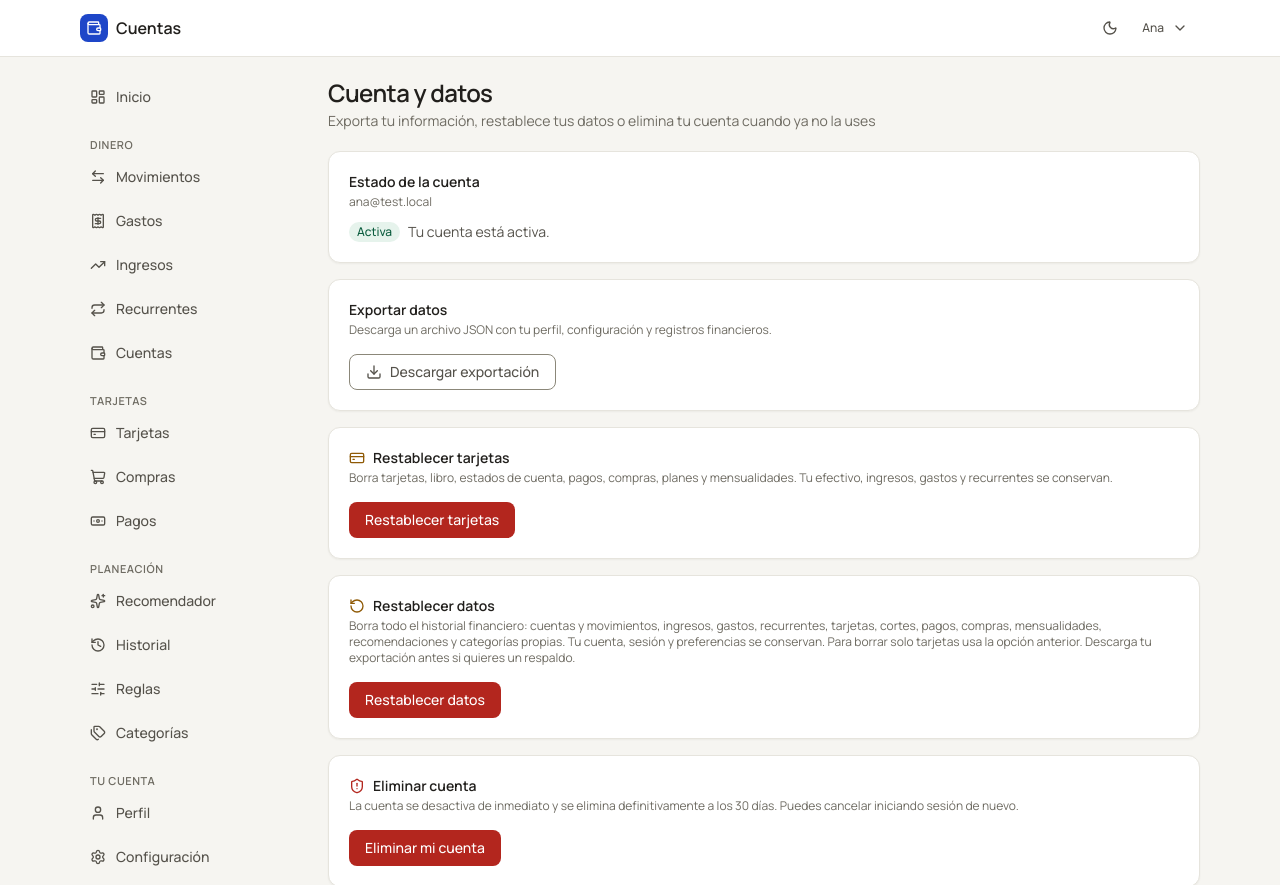
Test: cuenta y datos › descarga la exportación en JSON
Click the button "Descargar exportación" at (453, 372), box [349, 354, 556, 390]
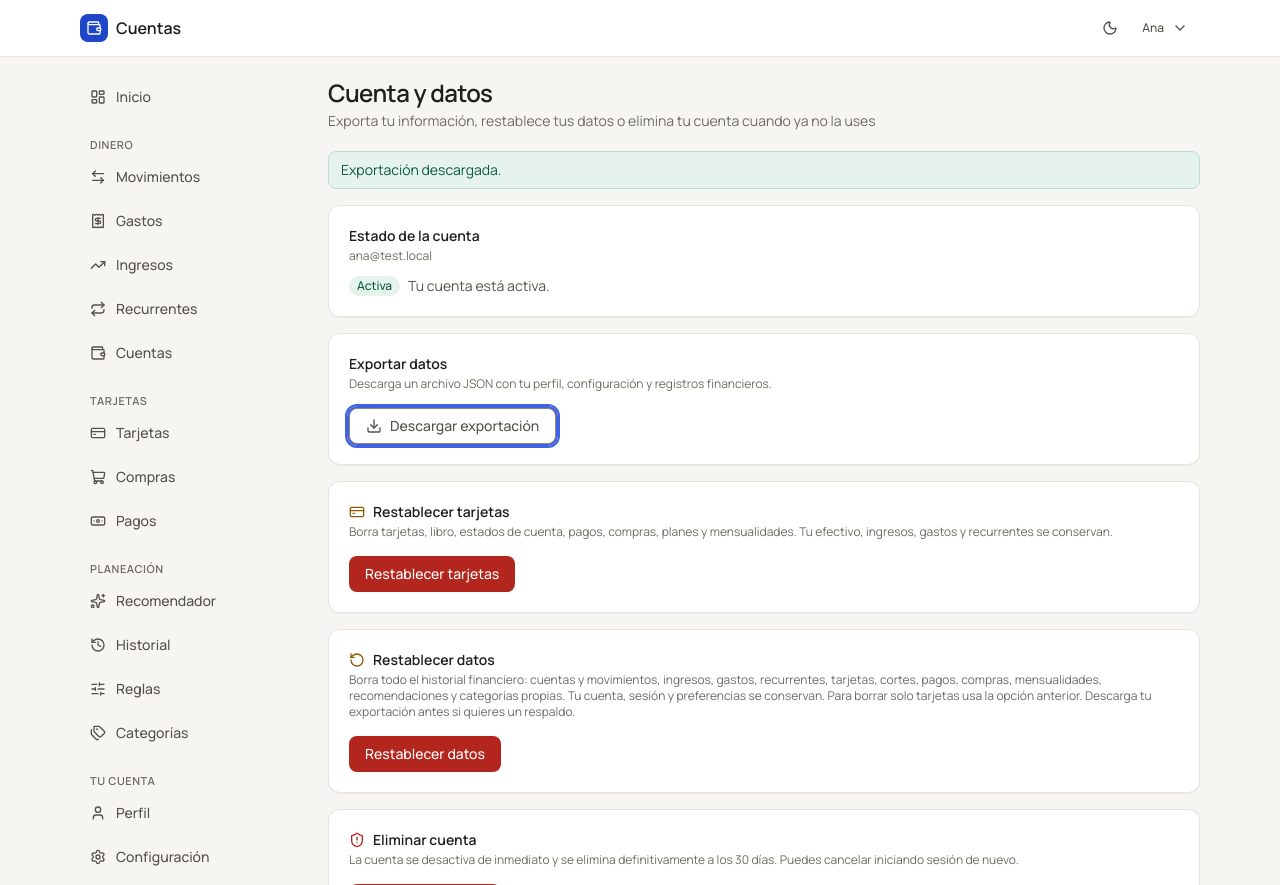
Expected: the text "Exportación descargada." is shown, [328, 151, 1200, 189]
